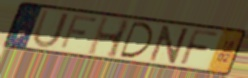D: (118, 20, 155, 60)
F: (177, 28, 221, 67), (57, 13, 100, 51)
H: (85, 15, 134, 60)
N: (147, 24, 191, 65)
U: (30, 9, 71, 50)
